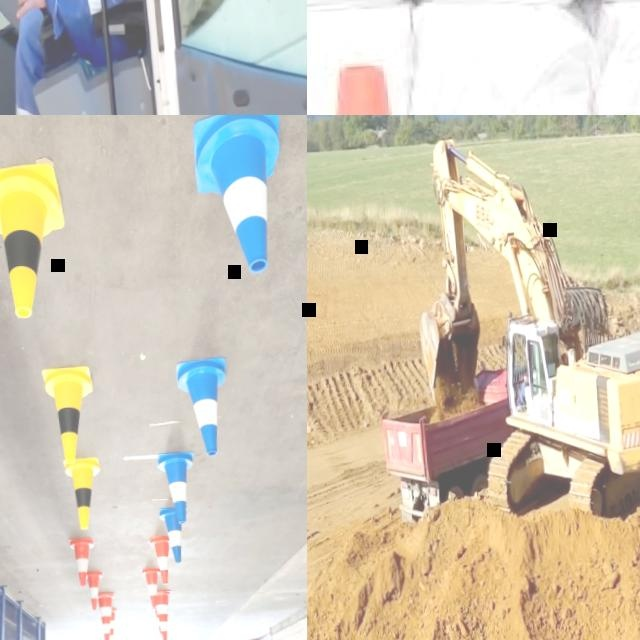Person: (0, 0, 155, 115), (516, 366, 540, 408)
Safety Cone: (187, 115, 291, 277), (0, 158, 73, 325), (307, 57, 501, 115), (171, 356, 235, 458), (42, 364, 99, 469), (62, 456, 104, 533), (157, 452, 199, 527), (157, 507, 185, 565), (67, 540, 96, 590), (146, 536, 172, 588), (152, 590, 174, 640), (139, 567, 159, 616), (83, 569, 104, 611), (97, 592, 115, 640), (102, 609, 118, 640)
machinery: (408, 123, 640, 527), (0, 0, 307, 115), (379, 368, 520, 522)
